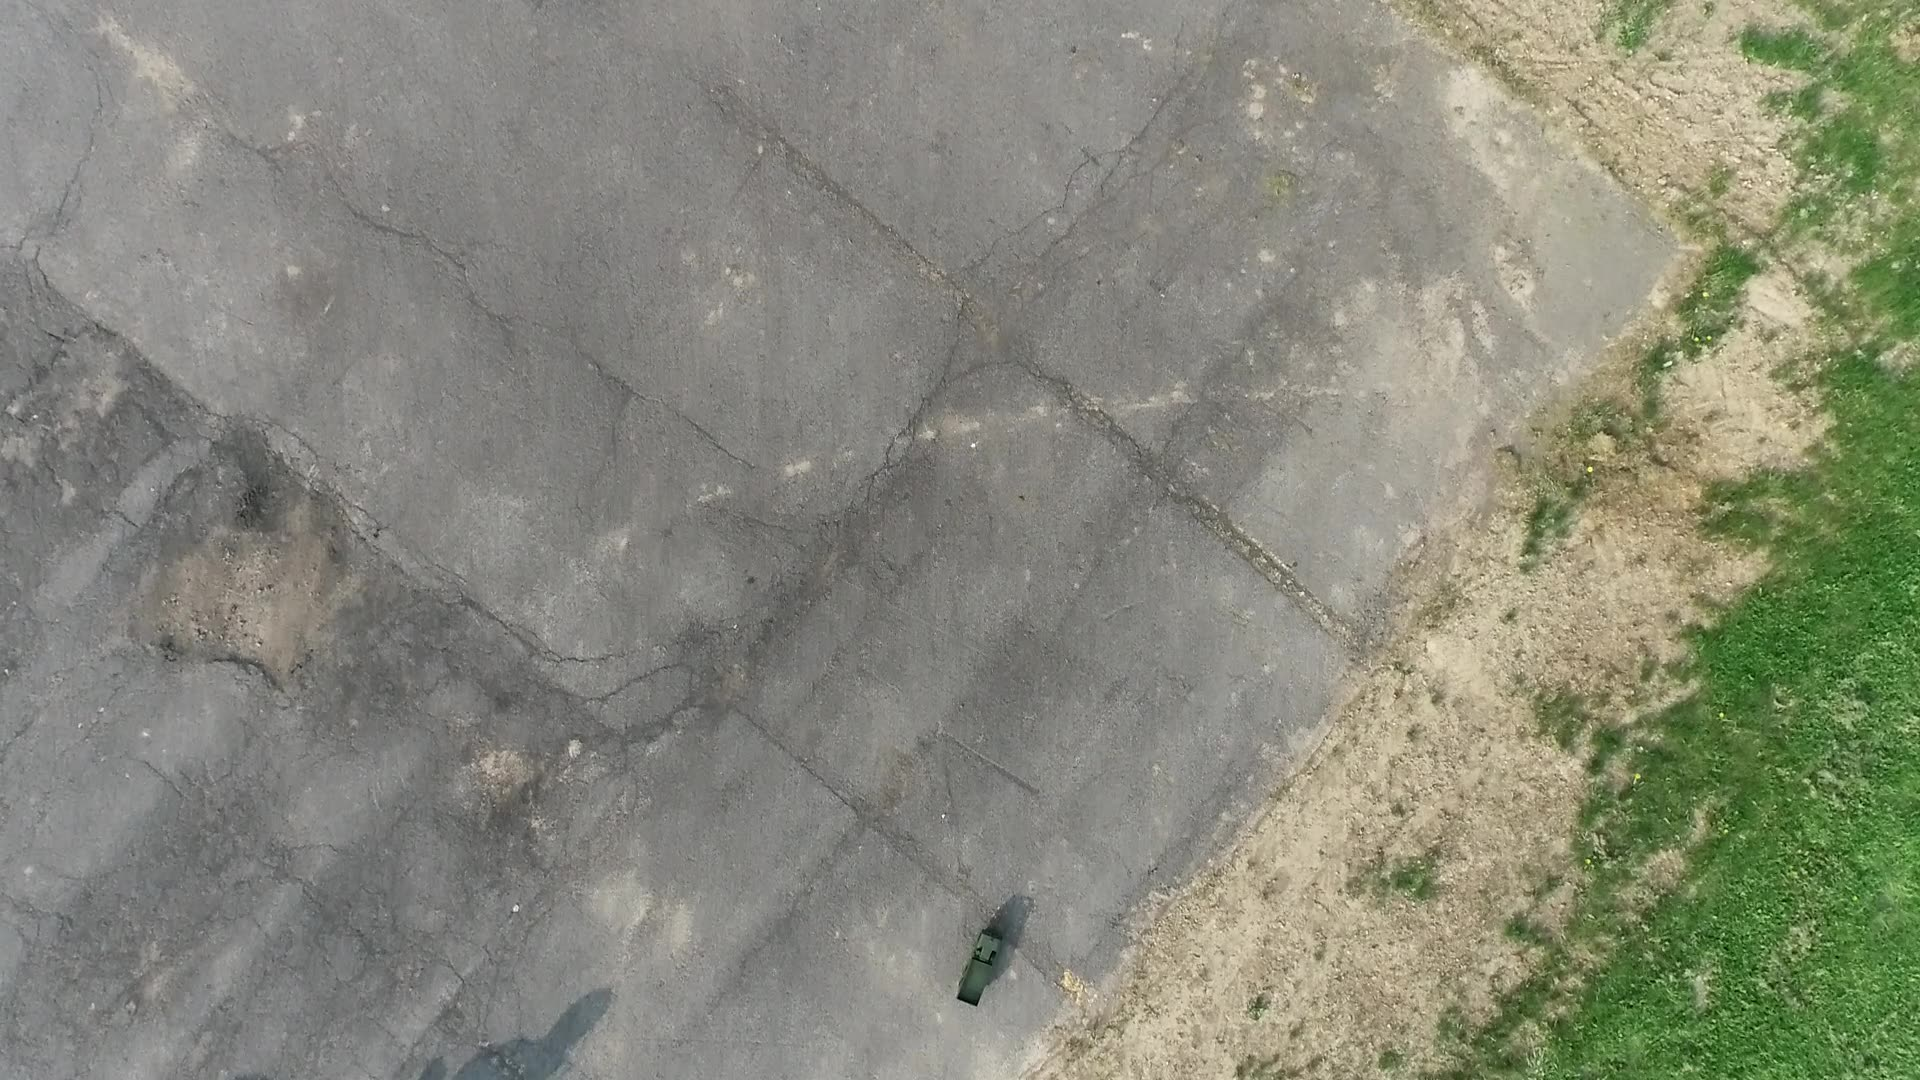transporter9: (949, 930, 1004, 1007)
